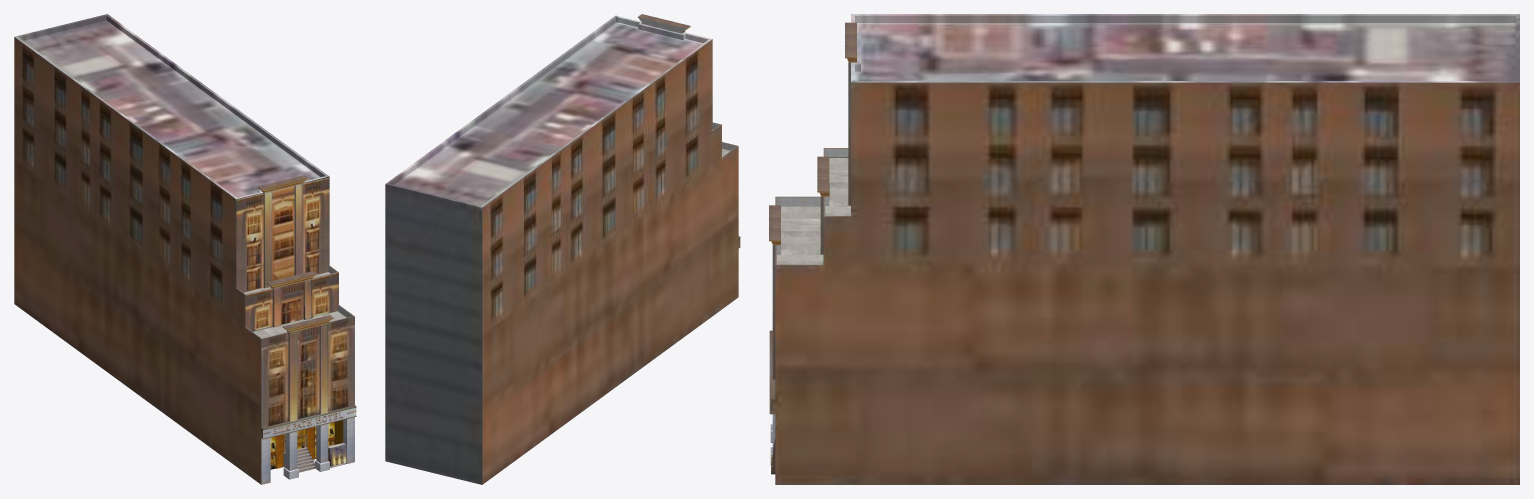
3 renders of one model, left to right at view 1: azimuth 30°, elevation 25°; view 2: azimuth 150°, elevation 25°; view 3: azimuth 270°, elevation 25°, orthographic. The views are drawn at different scales.
Parts seen in each view (by area): view 1: HN015___Silk_Path_Hotel; view 2: HN015___Silk_Path_Hotel; view 3: HN015___Silk_Path_Hotel.
Boxes of the visible parts, x1,y1,x2,y2 form: HN015___Silk_Path_Hotel: (14,14,356,484); HN015___Silk_Path_Hotel: (385,14,740,484); HN015___Silk_Path_Hotel: (769,14,1519,484).
Size of the model in its own units: 12.05 by 33.62 by 55.64.
Materials: 1 (1 with a texture image).
